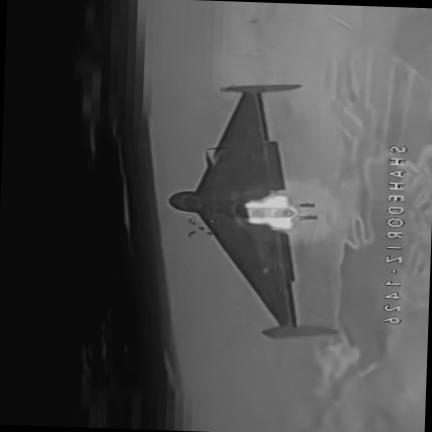Shahed: (168, 84, 339, 338)
